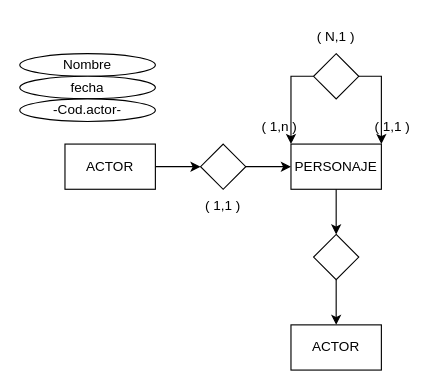
Image size: 446x390. Some labels were removed from this diagram. The centre of each missing label's shape, as x and y in pixels:
"Depende" belongs at (x=335, y=76).
"Interpreta" belongs at (x=222, y=166).
"Participa" belongs at (x=335, y=256).
